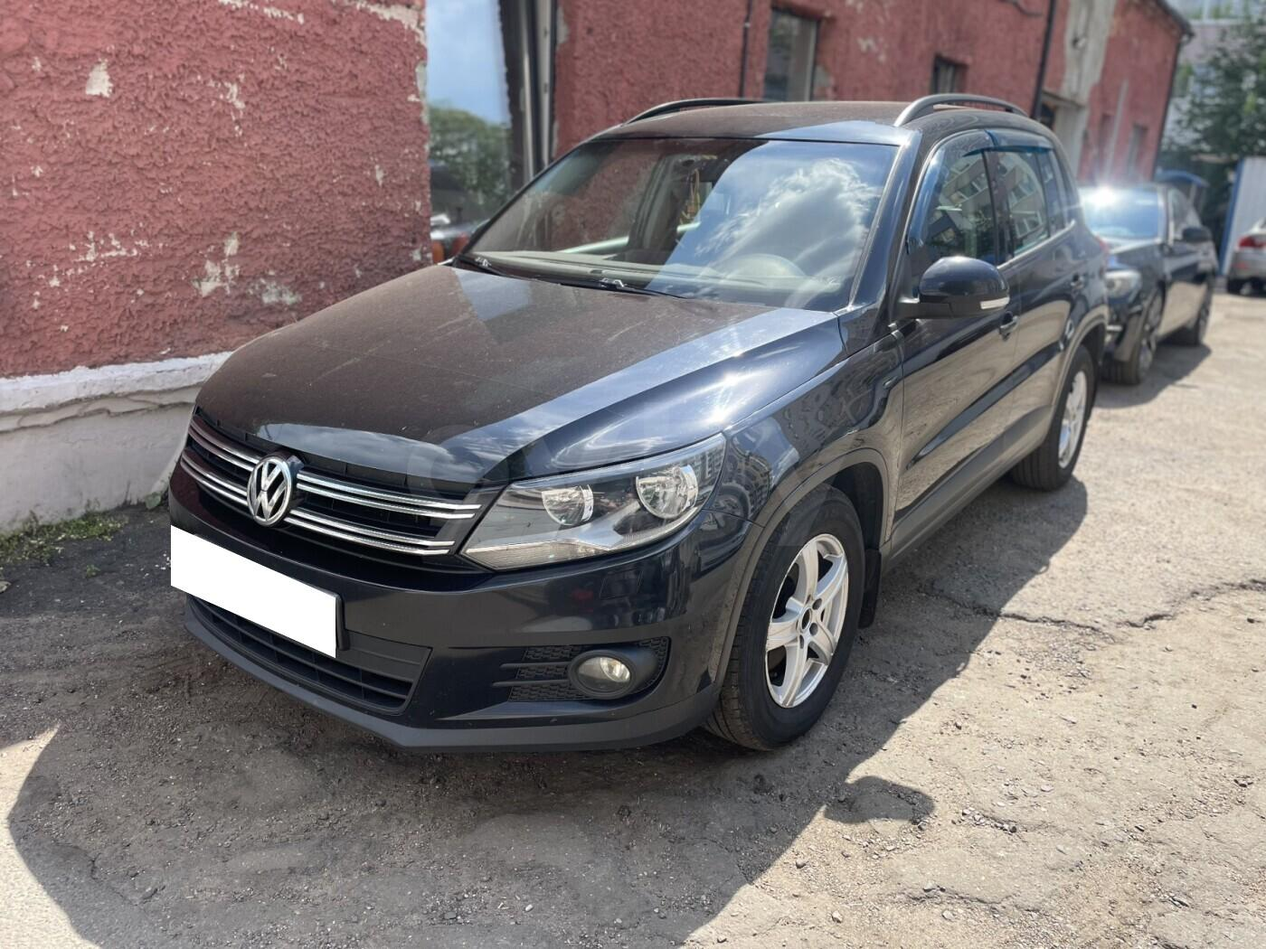Tiguan_2011-2018: (156, 90, 1102, 757)
